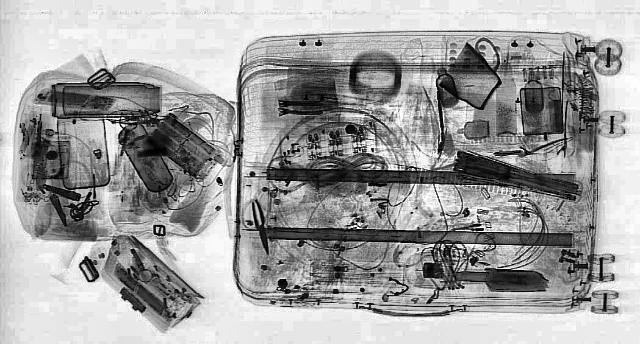Knife: (247, 198, 275, 254)
